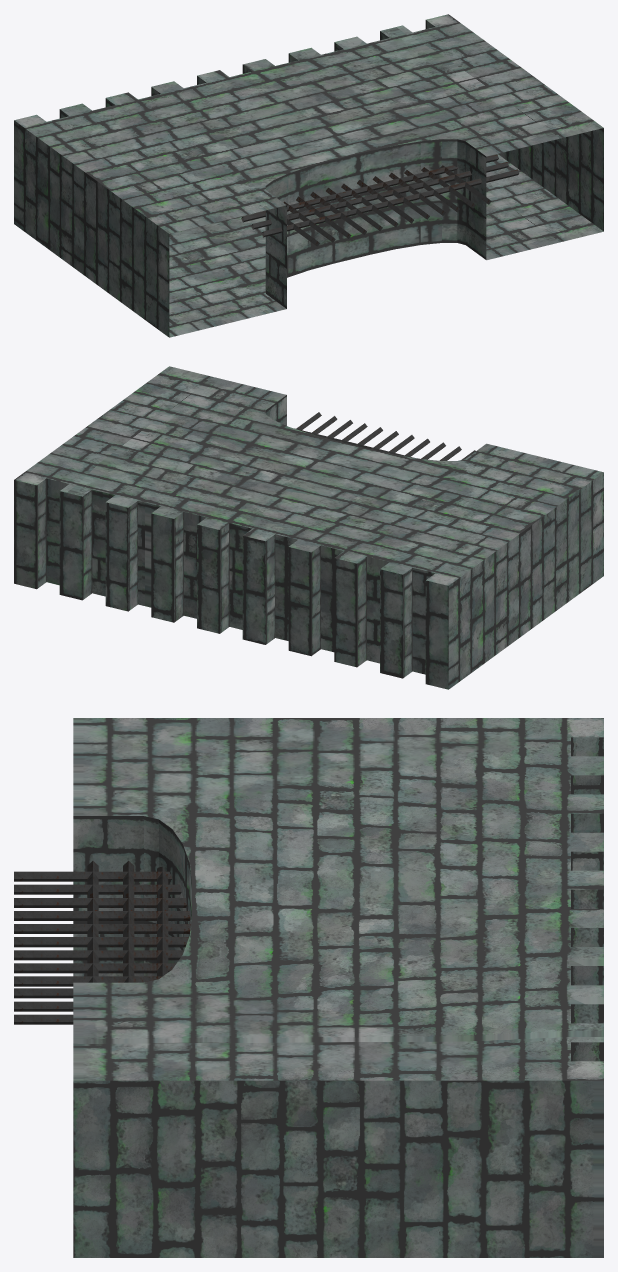
Rendered from Stone_Gate_03.fbx.
3 renders of one model, top to bottom at view 1: azimuth 30°, elevation 25°; view 2: azimuth 150°, elevation 25°; view 3: azimuth 270°, elevation 25°, orthographic. The views are drawn at different scales.
Visible parts, largest first — view 1: Stone_Gate_03; view 2: Stone_Gate_03; view 3: Stone_Gate_03.
Boxes of the visible parts, left/top/right/bottom form: Stone_Gate_03: left=14, top=14, right=603, bottom=337; Stone_Gate_03: left=14, top=366, right=603, bottom=689; Stone_Gate_03: left=14, top=718, right=603, bottom=1257.
Size of the model in its own units: 1558 by 356 by 1072.
